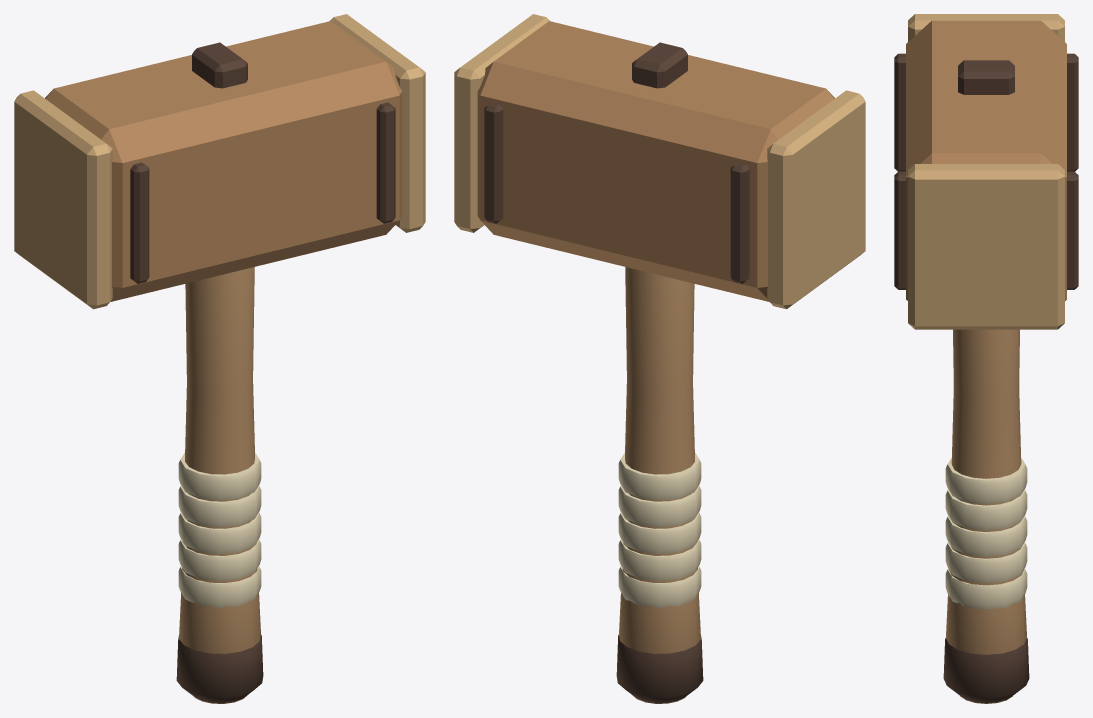
Rendered from tool_mallet.glb.
The picture shows the model from 3 angles, left to right: view 1: azimuth 30°, elevation 25°; view 2: azimuth 150°, elevation 25°; view 3: azimuth 270°, elevation 25°; orthographic projection.
Parts seen in each view (by area): view 1: tool_mallet; view 2: tool_mallet; view 3: tool_mallet.
Boxes of the visible parts, box(x1,y1,x2,y2) form: tool_mallet: box(14, 14, 425, 703); tool_mallet: box(454, 14, 865, 703); tool_mallet: box(894, 14, 1078, 703).
Bounding box in the file's own units: 0.264 × 0.4755 × 0.127.
